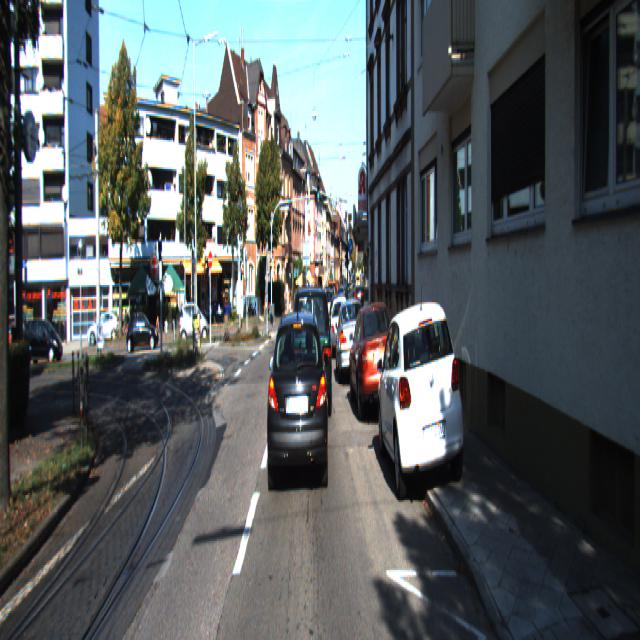Car: (377, 292, 467, 514), (266, 298, 329, 496), (348, 300, 400, 430), (290, 281, 331, 424), (335, 294, 367, 388), (23, 315, 65, 368), (125, 311, 158, 353), (179, 301, 209, 344)
